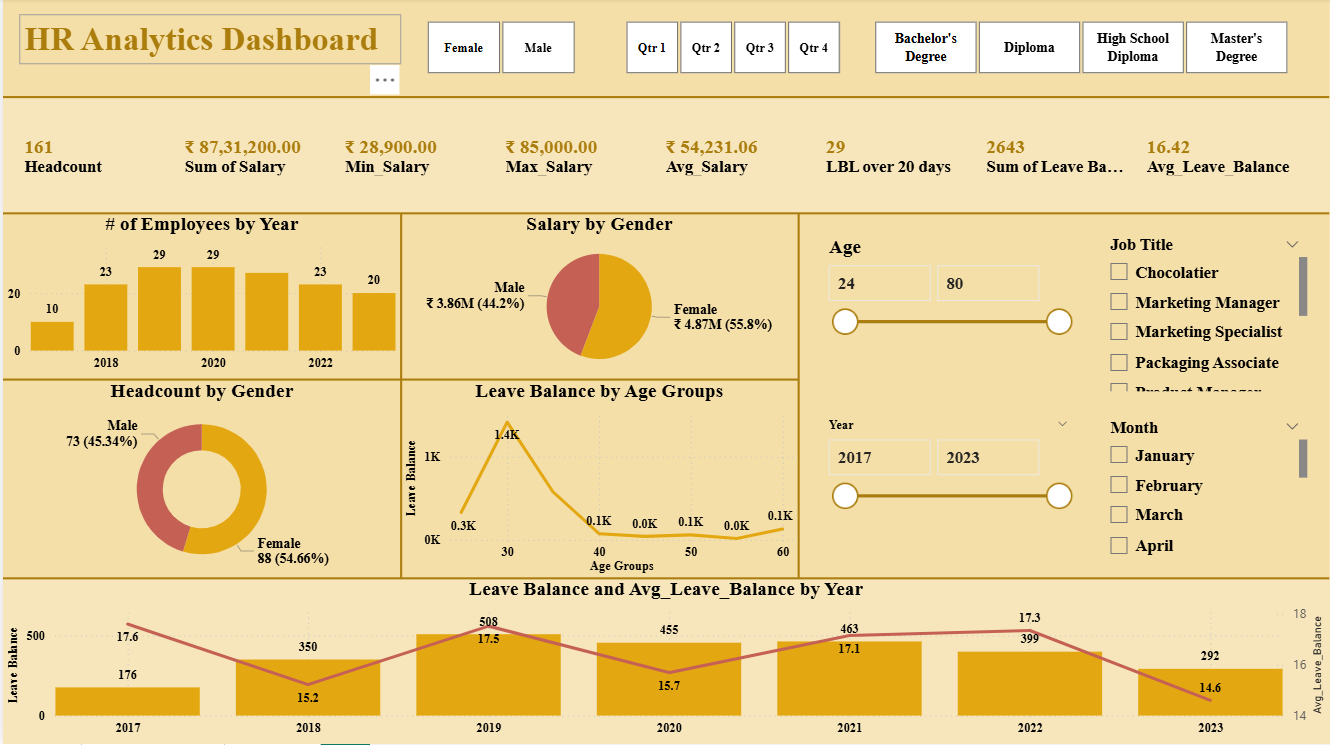

The page's visual inventory and layout, read from the dashboard file:
{"tool":"powerbi","page":{"name":"HR Dashboard","canvas":[1280,720],"ordinal":0},"visuals":[{"type":"shape","box":[0,208,1280,352],"z":0},{"type":"slicer","fields":{"Values":["Employee Table.Job Title"]},"box":[1056,224,208,160],"z":0,"group":"g1"},{"type":"shape","box":[0,0,1280,96],"z":1000},{"type":"slicer","fields":{"Values":["Employee Table.Age"]},"box":[784,224,256,160],"z":1000,"group":"g1"},{"type":"textbox","box":[16,16,368,48],"z":2000},{"type":"slicer","fields":{"Values":["Employee Table.Date of Join.Variation.Date Hierarchy.Year"]},"box":[784,400,256,144],"z":2000,"group":"g1"},{"type":"shape","box":[0,80,1280,32],"z":3000},{"type":"slicer","fields":{"Values":["Employee Table.Date of Join.Variation.Date Hierarchy.Month"]},"box":[1056,400,208,144],"z":3000,"group":"g1"},{"type":"multiRowCard","fields":{"Values":["All Measures.Headcount","Sum(Employee Table.Salary)","All Measures.Min_Salary","All Measures.Max_Salary","All Measures.Avg_Salary","All Measures.LBL over 20 days","Sum(Employee Table.Leave Balance)","All Measures.Avg_Leave_Balance"]},"box":[16,128,1248,64],"z":4000},{"type":"lineStackedColumnComboChart","fields":{"Category":["Employee Table.Date of Join.Variation.Date Hierarchy.Year","Employee Table.Date of Join.Variation.Date Hierarchy.Quarter","Employee Table.Date of Join.Variation.Date Hierarchy.Month"],"Y":["Sum(Employee Table.Leave Balance)"],"Y2":["All Measures.Avg_Leave_Balance"]},"box":[0,560,1280,160],"z":5000},{"type":"slicer","fields":{"Values":["Qualification_Table.Qualification"]},"box":[816,16,448,64],"z":6000},{"type":"pieChart","fields":{"Category":["Employee Table.Gender"],"Y":["Sum(Employee Table.Salary)"]},"box":[384,208,384,160],"z":7000},{"type":"donutChart","fields":{"Category":["Employee Table.Gender"],"Y":["All Measures.Headcount"]},"box":[0,368,384,192],"z":8000},{"type":"lineChart","fields":{"Y":["Sum(Employee Table.Leave Balance)"],"Category":["Employee Table.Age Groups"]},"box":[384,368,384,192],"z":9000},{"type":"shape","box":[0,352,768,32],"z":10000},{"type":"shape","box":[0,544,1280,32],"z":11000},{"type":"shape","box":[736,208,64,352],"z":12000},{"type":"shape","box":[0,192,1280,32],"z":13000},{"type":"shape","box":[352,208,64,352],"z":14000},{"type":"columnChart","title":"# of Employees by Year","fields":{"Category":["Employee Table.Date of Join.Variation.Date Hierarchy.Year"],"Y":["CountNonNull(Employee Table.Emp ID)"]},"box":[0,208,384,160],"z":15000},{"type":"slicer","fields":{"Values":["Employee Table.Gender"]},"box":[384,16,192,64],"z":16000},{"type":"slicer","fields":{"Values":["Employee Table.Date of Join.Variation.Date Hierarchy.Quarter"]},"box":[576,16,256,64],"z":17000},{"type":"group","id":"g1","title":"Group 1","box":[784,224,480,320],"z":18000}]}

Visuals, with their boxes in screenshot pixels (x1, y1, x2, y2), scaled from the page's 1280x720 canvas onto the 1330x745 screenshot:
shape: pyautogui.locateOnScreen(0, 215, 1329, 579)
slicer - Employee Table.Job Title: pyautogui.locateOnScreen(1097, 232, 1313, 397)
shape: pyautogui.locateOnScreen(0, 0, 1329, 99)
slicer - Employee Table.Age: pyautogui.locateOnScreen(815, 232, 1081, 397)
textbox: pyautogui.locateOnScreen(17, 17, 399, 66)
slicer - Employee Table.Date of Join.Variation.Date Hierarchy.Year: pyautogui.locateOnScreen(815, 414, 1081, 563)
shape: pyautogui.locateOnScreen(0, 83, 1329, 116)
slicer - Employee Table.Date of Join.Variation.Date Hierarchy.Month: pyautogui.locateOnScreen(1097, 414, 1313, 563)
multiRowCard - All Measures.Headcount x Sum(Employee Table.Salary): pyautogui.locateOnScreen(17, 132, 1313, 199)
lineStackedColumnComboChart - Employee Table.Date of Join.Variation.Date Hierarchy.Year x Employee Table.Date of Join.Variation.Date Hierarchy.Quarter: pyautogui.locateOnScreen(0, 579, 1329, 744)
slicer - Qualification_Table.Qualification: pyautogui.locateOnScreen(848, 17, 1313, 83)
pieChart - Employee Table.Gender x Sum(Employee Table.Salary): pyautogui.locateOnScreen(399, 215, 798, 381)
donutChart - Employee Table.Gender x All Measures.Headcount: pyautogui.locateOnScreen(0, 381, 399, 579)
lineChart - Sum(Employee Table.Leave Balance) x Employee Table.Age Groups: pyautogui.locateOnScreen(399, 381, 798, 579)
shape: pyautogui.locateOnScreen(0, 364, 798, 397)
shape: pyautogui.locateOnScreen(0, 563, 1329, 596)
shape: pyautogui.locateOnScreen(765, 215, 831, 579)
shape: pyautogui.locateOnScreen(0, 199, 1329, 232)
shape: pyautogui.locateOnScreen(366, 215, 432, 579)
"# of Employees by Year" columnChart: pyautogui.locateOnScreen(0, 215, 399, 381)
slicer - Employee Table.Gender: pyautogui.locateOnScreen(399, 17, 598, 83)
slicer - Employee Table.Date of Join.Variation.Date Hierarchy.Quarter: pyautogui.locateOnScreen(598, 17, 864, 83)
"Group 1" group: pyautogui.locateOnScreen(815, 232, 1313, 563)
